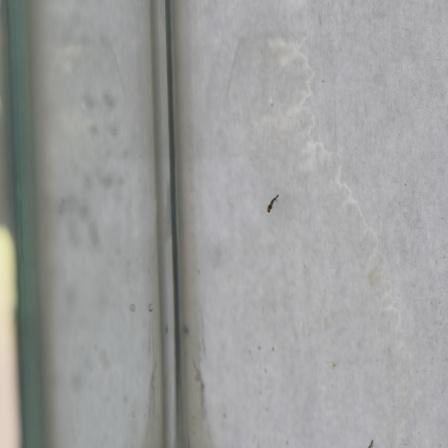Jentik-Nyamuk: (263, 191, 282, 218)
